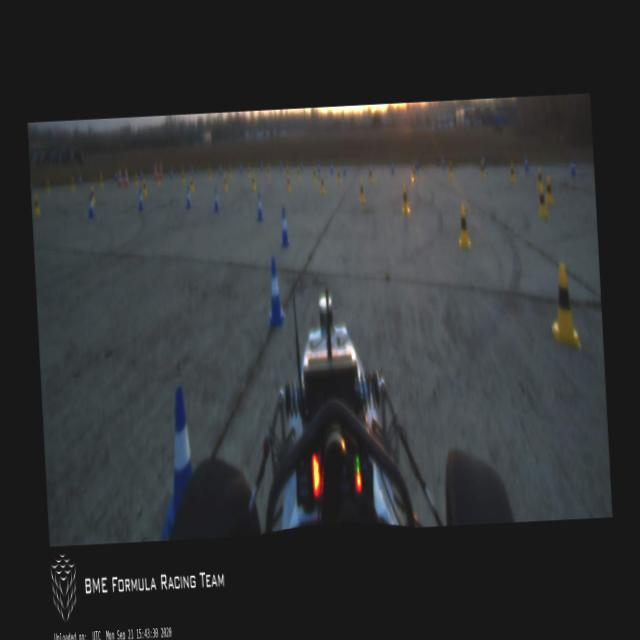blue_cone: (156, 387, 198, 536), (265, 254, 286, 326), (279, 206, 290, 249), (255, 192, 264, 222), (87, 194, 95, 219), (137, 187, 144, 210), (213, 186, 219, 212), (185, 186, 192, 208), (570, 158, 576, 176), (524, 155, 530, 172), (342, 164, 347, 177), (329, 162, 334, 174), (279, 158, 283, 172), (482, 154, 486, 168), (78, 174, 82, 187), (317, 162, 321, 175), (260, 160, 264, 172), (442, 153, 445, 169), (219, 160, 222, 174), (391, 162, 394, 176), (114, 173, 118, 182), (239, 162, 242, 174), (190, 164, 193, 175), (300, 160, 303, 170), (416, 156, 418, 170), (170, 168, 172, 180), (140, 168, 142, 179)
large_orange_cone: (123, 164, 129, 188), (158, 156, 164, 179), (153, 157, 158, 180), (118, 165, 122, 188)
yellow_cone: (547, 260, 582, 352), (457, 204, 472, 252), (536, 185, 550, 219), (544, 174, 554, 208), (400, 183, 410, 215), (32, 192, 40, 216), (535, 166, 543, 190), (508, 162, 516, 185), (359, 178, 366, 204), (320, 173, 326, 195), (142, 178, 148, 198), (480, 160, 486, 180), (90, 186, 96, 205), (411, 164, 417, 183), (44, 177, 50, 196), (286, 174, 292, 192), (368, 167, 374, 185), (312, 165, 318, 183), (449, 160, 454, 180), (134, 170, 139, 190), (223, 174, 228, 193), (251, 174, 256, 192), (70, 176, 75, 193), (337, 167, 341, 186), (100, 172, 104, 190), (190, 176, 194, 193), (228, 163, 232, 180), (296, 166, 300, 182), (157, 172, 161, 188), (286, 164, 290, 178), (181, 171, 185, 184), (208, 166, 211, 180), (267, 166, 270, 180), (248, 165, 250, 178)
